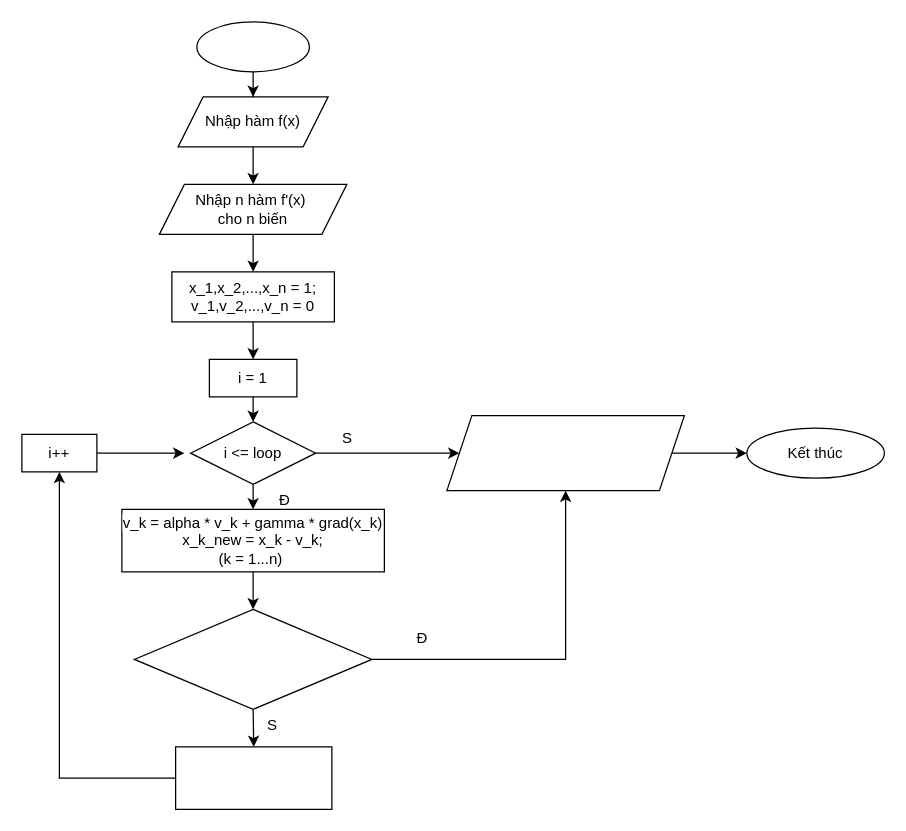
Some shapes in this 906 by 831 pixel diagram are drawn without their labels. The centre of each missing label's shape, as x and y in pixels:
abs(x_k_new - x_k) < gra (k = 1...n): the point at 252,658
Bắt đầu: the point at 252,46
In ra giá trị nhỏ nhất tại x_k (k=1..n) và f(x1,x2,..,x_n): the point at 565,452
x_k = x_k_new; (k=1..n): the point at 253,777
